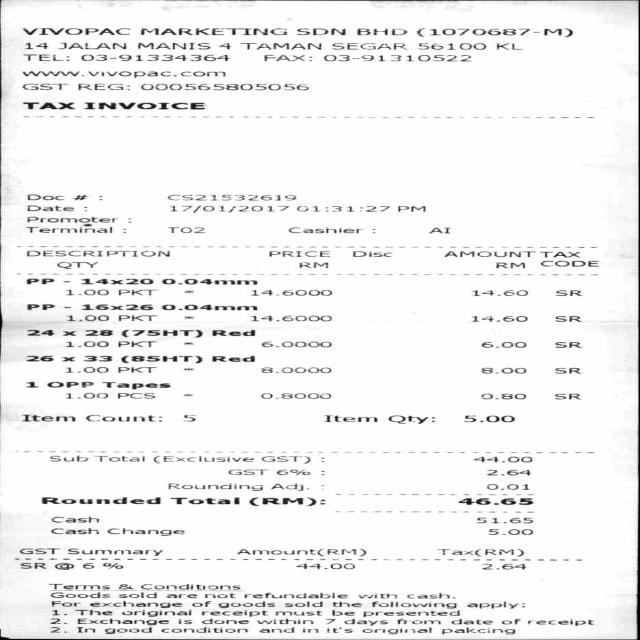text: (21, 71, 224, 78), (416, 28, 571, 37), (80, 54, 228, 61), (237, 548, 365, 556), (139, 28, 285, 35), (25, 250, 170, 257), (139, 84, 307, 90), (322, 55, 469, 61), (83, 102, 203, 109), (40, 497, 158, 504), (442, 251, 578, 257), (166, 194, 294, 200), (66, 548, 161, 556), (180, 205, 287, 212), (249, 496, 323, 506), (90, 600, 180, 608), (166, 483, 261, 490), (120, 355, 201, 363), (75, 618, 167, 625), (26, 216, 117, 223), (22, 28, 128, 34), (242, 592, 346, 598), (106, 528, 183, 536), (25, 226, 112, 233), (152, 456, 253, 462), (436, 549, 522, 556), (370, 601, 456, 608), (362, 610, 458, 616), (161, 278, 255, 284), (161, 304, 255, 310), (121, 330, 201, 337), (102, 381, 169, 389), (441, 627, 514, 634), (139, 584, 240, 589), (137, 42, 209, 49), (56, 42, 125, 49), (361, 627, 430, 634), (240, 43, 320, 49), (250, 315, 330, 321), (169, 497, 237, 504), (296, 206, 388, 211), (287, 227, 362, 233), (85, 415, 160, 421), (456, 498, 531, 504), (217, 600, 273, 608), (331, 43, 405, 49), (159, 627, 246, 632), (268, 250, 330, 257), (80, 278, 151, 284), (260, 341, 331, 347), (21, 414, 74, 422), (121, 610, 190, 616), (417, 43, 484, 49), (250, 290, 330, 295), (526, 619, 592, 625), (201, 610, 266, 616), (386, 415, 434, 423), (102, 626, 150, 634), (25, 204, 67, 213), (21, 102, 74, 109), (472, 456, 532, 462), (342, 618, 387, 626), (77, 83, 128, 90), (80, 304, 151, 309), (356, 28, 406, 35), (260, 367, 330, 372), (259, 393, 329, 398), (539, 260, 597, 266), (296, 563, 354, 569), (50, 592, 108, 598), (296, 28, 345, 35), (463, 415, 512, 422), (260, 456, 309, 463), (467, 602, 524, 608), (262, 54, 310, 61), (476, 517, 532, 523), (255, 618, 311, 624), (471, 315, 526, 321), (323, 415, 376, 421), (92, 456, 145, 462), (48, 584, 109, 589), (45, 382, 92, 388), (50, 516, 97, 522), (50, 528, 97, 534), (56, 262, 96, 269), (22, 54, 68, 60), (20, 83, 66, 89), (472, 290, 526, 295), (202, 618, 247, 624), (269, 483, 307, 490), (210, 355, 254, 361), (480, 367, 524, 373), (480, 393, 524, 399), (484, 469, 528, 475), (480, 563, 524, 569), (406, 592, 450, 598), (395, 618, 439, 624), (211, 330, 253, 336), (65, 392, 107, 398), (351, 251, 392, 257), (66, 289, 107, 295), (66, 315, 107, 321), (227, 469, 268, 475), (48, 456, 87, 462), (274, 610, 320, 615), (118, 289, 156, 295), (118, 315, 156, 321), (73, 609, 111, 615), (117, 592, 154, 598), (480, 342, 524, 347), (64, 367, 108, 372), (488, 529, 532, 534), (26, 194, 62, 200), (485, 484, 528, 489), (449, 619, 491, 624), (66, 341, 107, 346), (19, 548, 59, 553), (116, 341, 155, 346), (116, 367, 155, 372), (276, 469, 308, 475), (117, 393, 154, 398), (166, 227, 202, 232), (284, 601, 320, 606), (330, 601, 360, 607), (495, 262, 524, 268), (298, 262, 326, 268), (25, 278, 53, 284), (25, 355, 53, 361), (83, 355, 111, 361), (259, 627, 292, 632), (54, 562, 74, 570), (554, 290, 580, 296), (356, 594, 395, 598), (326, 627, 352, 633), (24, 42, 46, 49), (496, 43, 521, 49), (554, 393, 579, 399), (204, 593, 234, 598), (50, 601, 79, 606), (25, 304, 53, 309), (25, 330, 53, 335), (83, 330, 111, 335), (553, 316, 580, 321), (553, 342, 580, 347), (428, 227, 450, 233), (331, 609, 353, 615), (19, 563, 45, 568), (554, 368, 579, 373), (166, 594, 196, 598), (400, 206, 423, 211), (102, 563, 122, 568), (500, 619, 520, 624), (118, 584, 134, 590), (191, 601, 210, 606), (51, 609, 66, 615), (49, 618, 66, 623), (49, 627, 66, 632), (72, 194, 86, 200), (177, 618, 191, 624), (77, 627, 93, 632), (302, 627, 317, 632), (218, 43, 230, 49), (182, 415, 194, 421), (81, 563, 95, 568), (25, 382, 36, 388), (60, 356, 73, 361), (61, 331, 74, 335), (326, 618, 334, 624)
